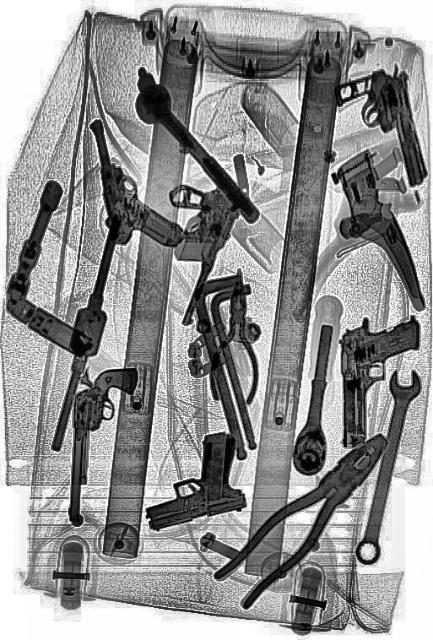Gun: (132, 152, 244, 330), (80, 94, 186, 270), (332, 55, 432, 208), (135, 428, 247, 530), (68, 364, 136, 520), (339, 316, 419, 446)
Pliers: (210, 414, 400, 622), (206, 266, 266, 406)
Wrench: (352, 360, 422, 570)
